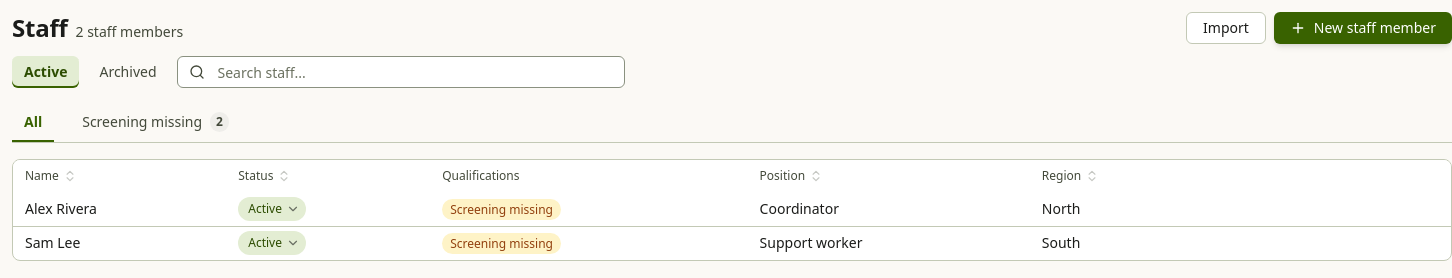
Test: StaffPage — PP-45 search › also matches on position/region, not just name
The width and height of the screenshot is (1452, 278).
Step 1. Type "coordinator" into the field with placeholder "Search staff..." → (400, 72), box [176,56,624,88]
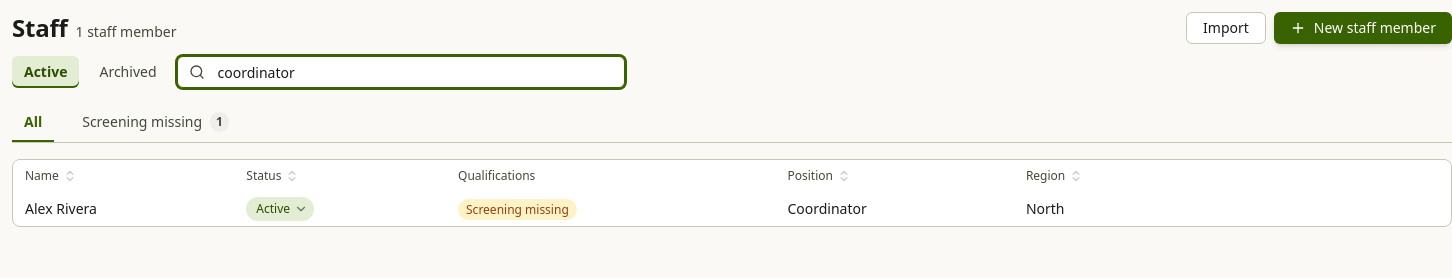
Expected: the link "Alex Rivera" is shown, [25,199,97,218]
Expected: the link "Sam Lee" is gone
